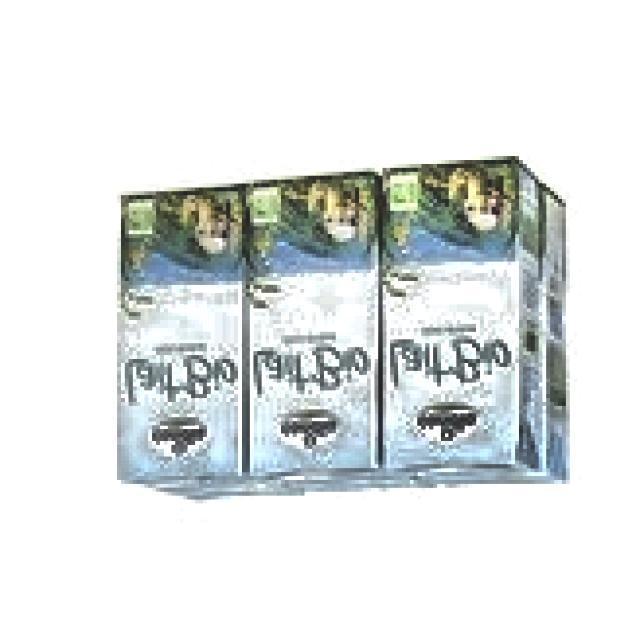cardboard: (113, 156, 570, 507)
